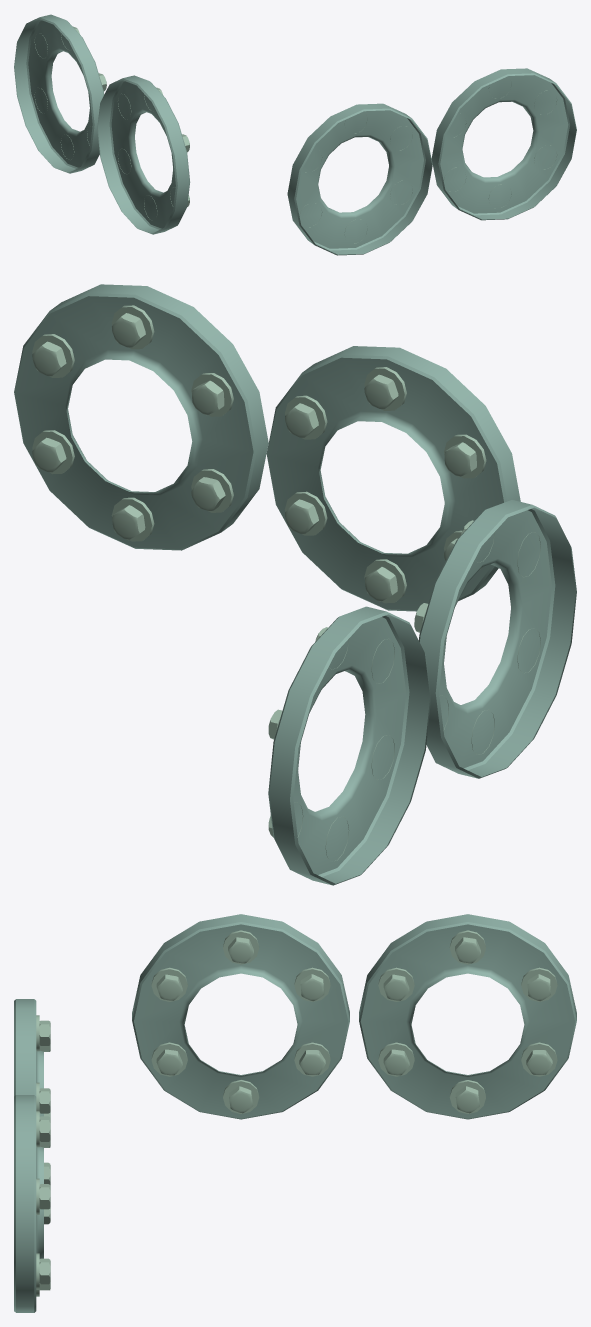
File: PipeComplexLarge_A3_10_End.fbx
3 views of the same model, one above another, from view 1: azimuth 30°, elevation 25°; view 2: azimuth 150°, elevation 25°; view 3: azimuth 270°, elevation 25° (orthographic). The views are drawn at different scales.
Visible parts, largest first — view 1: PipeComplexLarge_A3_10_End.001; view 2: PipeComplexLarge_A3_10_End.001; view 3: PipeComplexLarge_A3_10_End.001.
Boxes of the visible parts, <box> form: PipeComplexLarge_A3_10_End.001: <box>14,14,576,255</box>; PipeComplexLarge_A3_10_End.001: <box>14,284,576,885</box>; PipeComplexLarge_A3_10_End.001: <box>14,914,576,1312</box>.
Bounding box in the file's own units: 0.9927 × 0.3846 × 0.9927.
